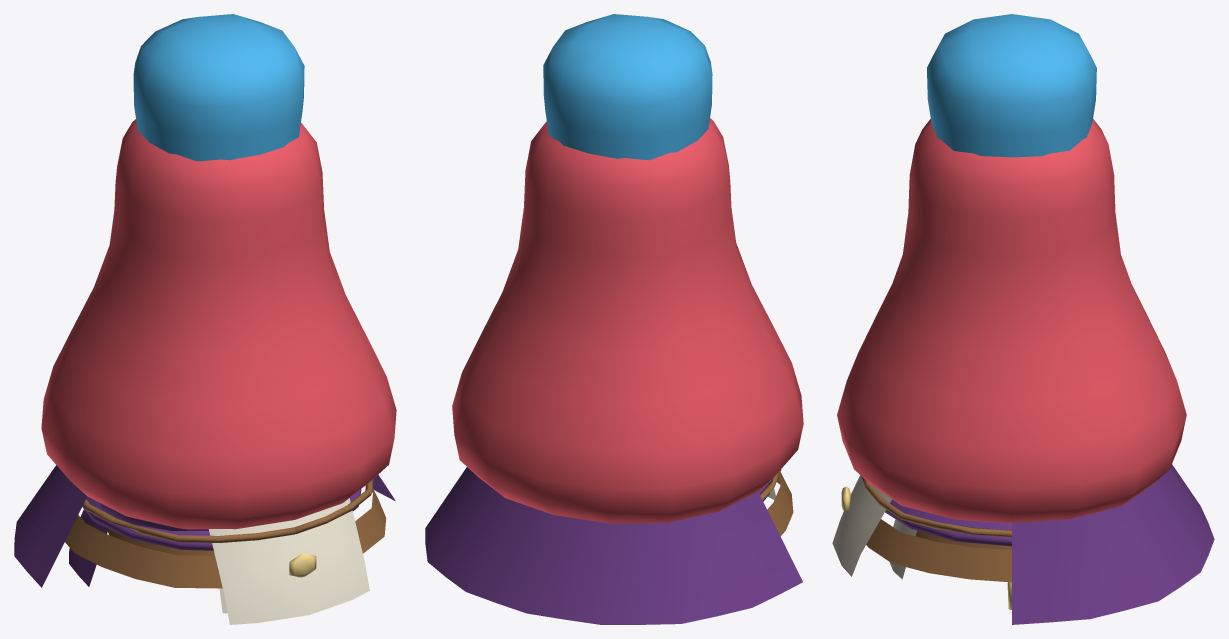
File: gummy-visitors.glb
3 renders of one model, left to right at view 1: azimuth 30°, elevation 25°; view 2: azimuth 150°, elevation 25°; view 3: azimuth 270°, elevation 25°, orthographic.
Parts seen in each view (by area): view 1: Body_chubby, Body_tall, clothing_apron__chubby, clothing_belt__chubby, clothing_cape__chubby, head_wizard__chubby, clothing_cape__tall, clothing_belt__tall, head_beret__chubby; view 2: Body_chubby, clothing_cape__chubby, Body_tall, clothing_belt__chubby; view 3: Body_chubby, Body_tall, clothing_cape__chubby, clothing_belt__chubby, clothing_apron__chubby, head_wizard__chubby.
Part boxes in pixels (left/top/right/bottom): Body_chubby: left=41, top=119, right=396, bottom=529; Body_tall: left=133, top=14, right=304, bottom=161; clothing_apron__chubby: left=83, top=479, right=373, bottom=624; clothing_belt__chubby: left=65, top=488, right=386, bottom=588; clothing_cape__chubby: left=14, top=465, right=395, bottom=587; head_wizard__chubby: left=82, top=489, right=361, bottom=550; clothing_cape__tall: left=69, top=509, right=108, bottom=586; clothing_belt__tall: left=108, top=529, right=214, bottom=555; head_beret__chubby: left=94, top=500, right=208, bottom=530; Body_chubby: left=452, top=118, right=803, bottom=523; clothing_cape__chubby: left=425, top=467, right=802, bottom=624; Body_tall: left=543, top=14, right=712, bottom=160; clothing_belt__chubby: left=767, top=472, right=793, bottom=536; Body_chubby: left=837, top=119, right=1186, bottom=523; Body_tall: left=927, top=14, right=1096, bottom=157; clothing_cape__chubby: left=1012, top=464, right=1214, bottom=624; clothing_belt__chubby: left=841, top=486, right=1011, bottom=582; clothing_apron__chubby: left=832, top=475, right=1011, bottom=576; head_wizard__chubby: left=885, top=499, right=1011, bottom=546.
Size of the model in its own units: 1.92 by 2.88 by 1.81.
4 materials, 2 textured.
